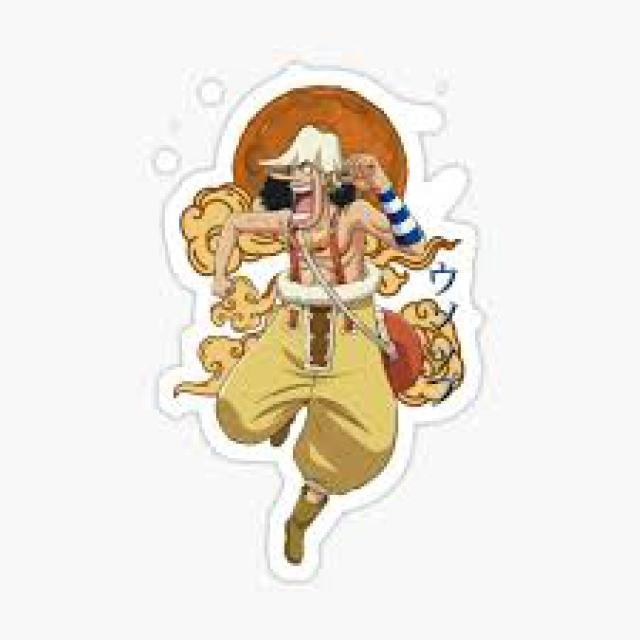Usopp: (210, 128, 427, 566)
